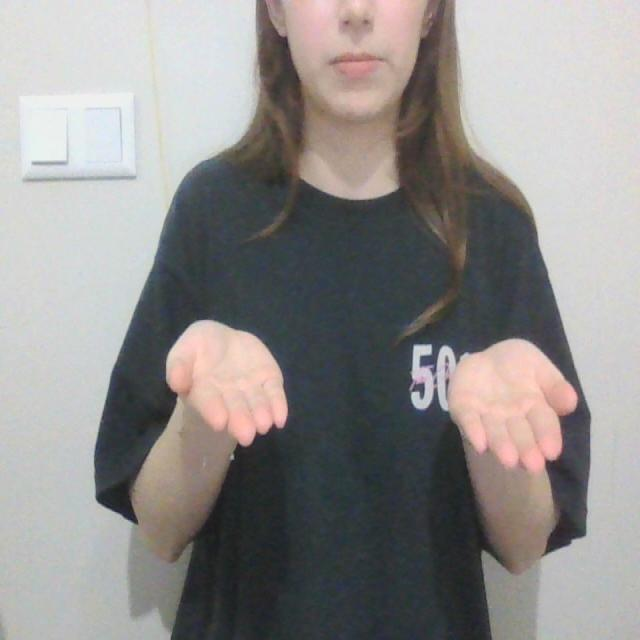Evet: (161, 313, 579, 481)
